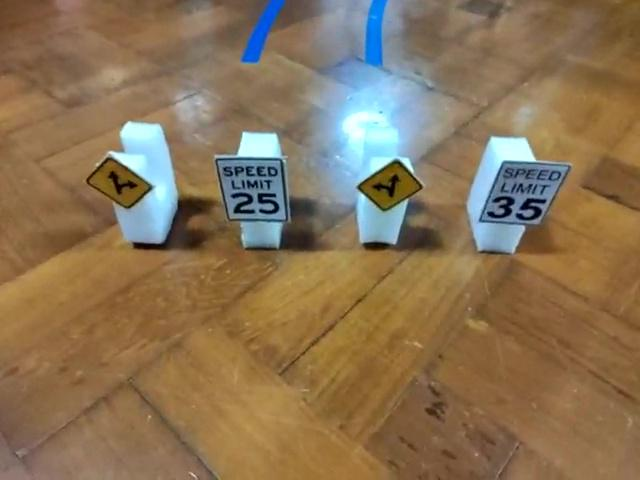Speed Limit 25: (215, 153, 291, 223)
Speed Limit 35: (476, 159, 570, 227)
Straight Or Left Sign: (355, 158, 422, 213)
Straight Or Right Sign: (84, 153, 153, 213)
